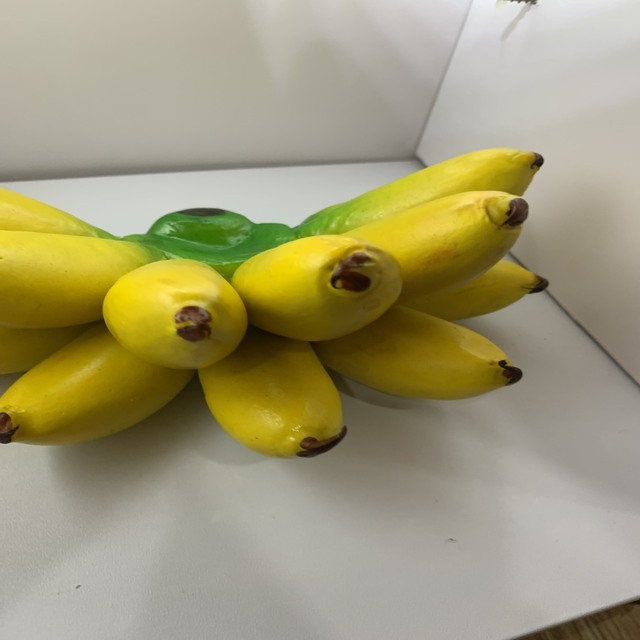Chuoi: (0, 145, 549, 465)
